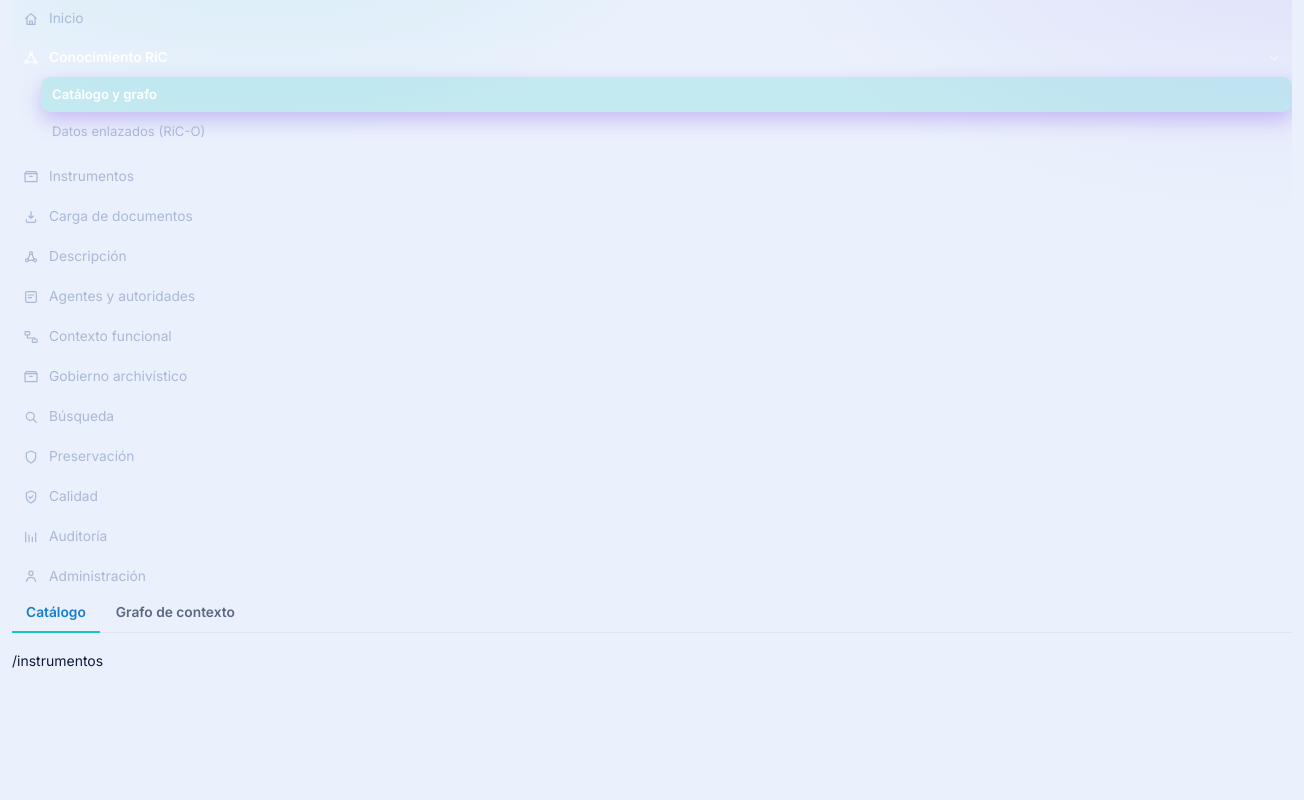
Test case: menú por procesos: módulos, uno con submódulos, y pestañas dentro de la pantalla › elegir un submódulo lleva a su primera vista; la pestaña cambia de vista dentro de él
The image size is (1304, 800).
Click the link "Datos enlazados (RiC-O)".
click(129, 131)  # box [52,123,205,139]
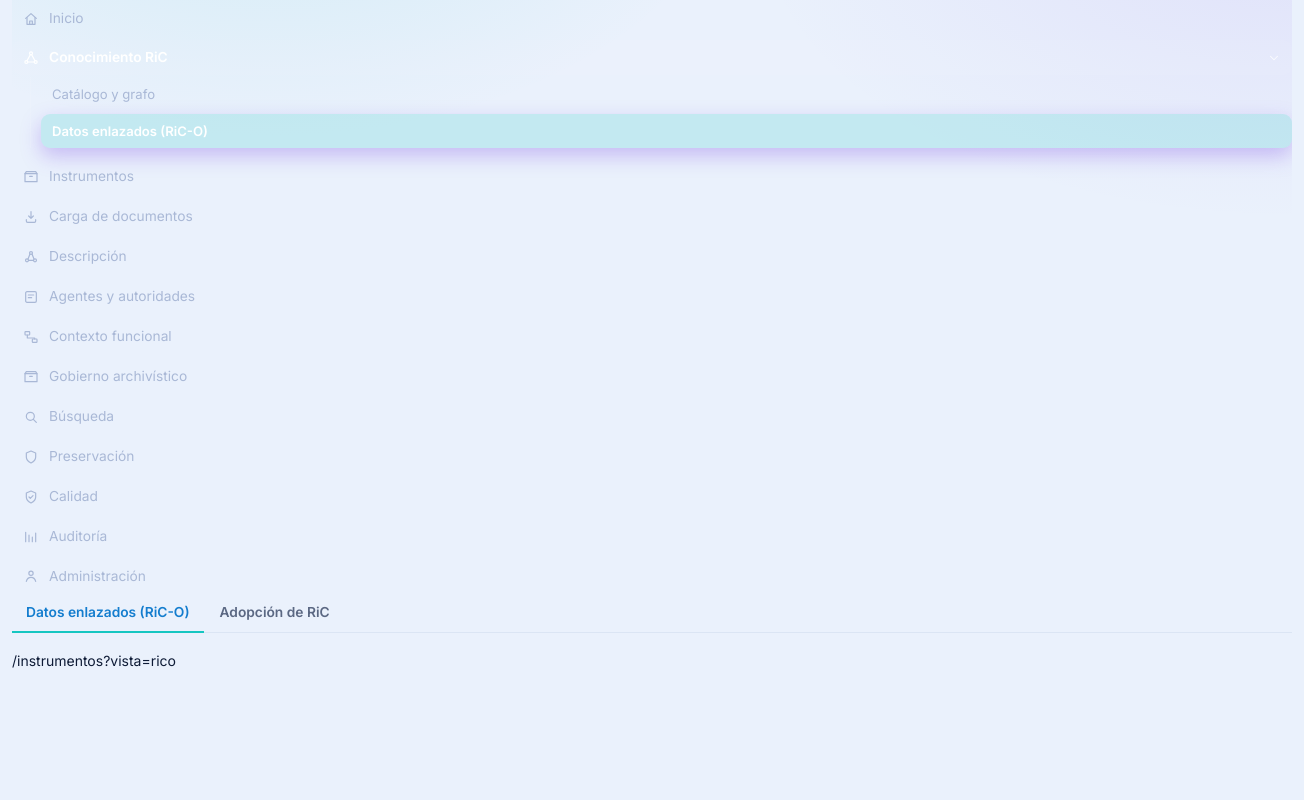
Expected: the text with test id "ubicacion" reads "/instrumentos?vista=rico", [12,652,176,669]
